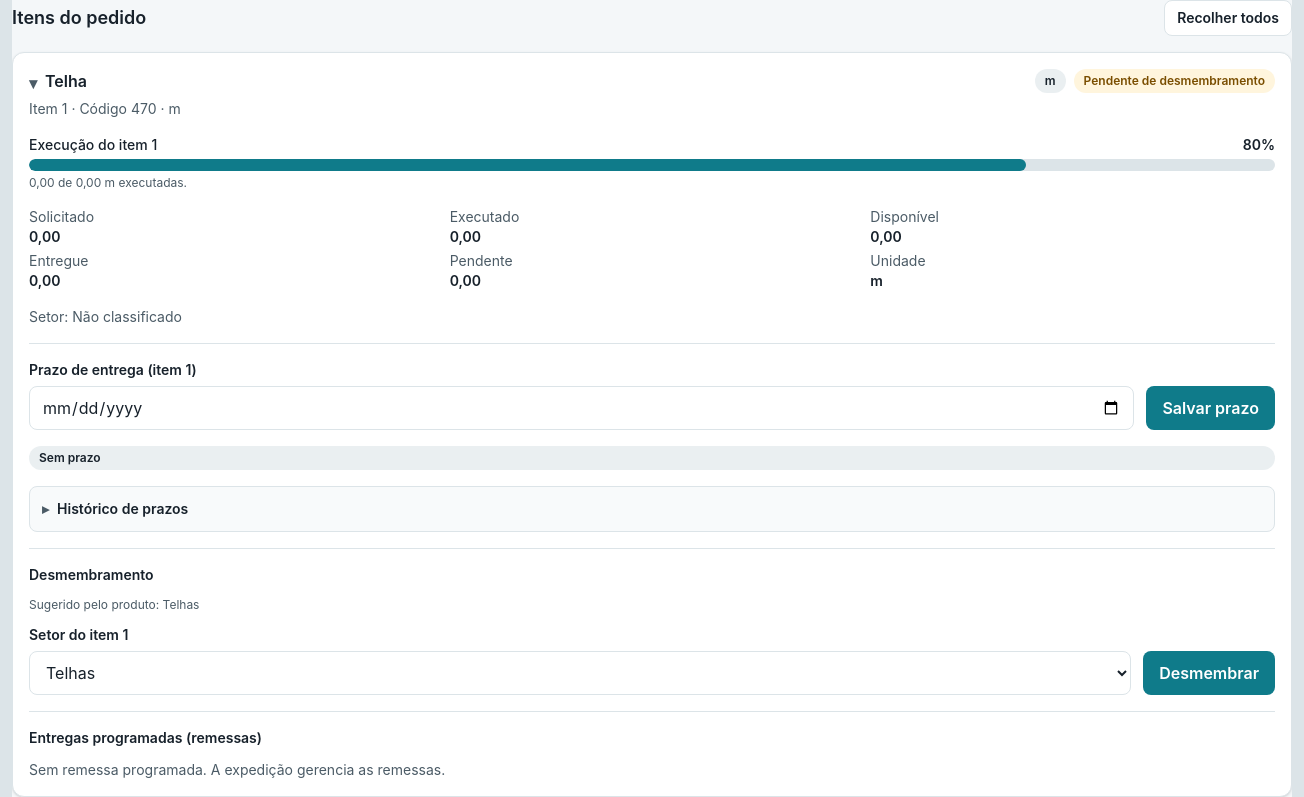
it: PedidoVendedorPage › faz a escolha manual prevalecer sobre o setor sugerido
The image size is (1304, 797).
(page scrolled)
Select "Corte e Dobra" in the dropdown labelled "Setor do item 1": [580, 673] box [29,651,1131,695]
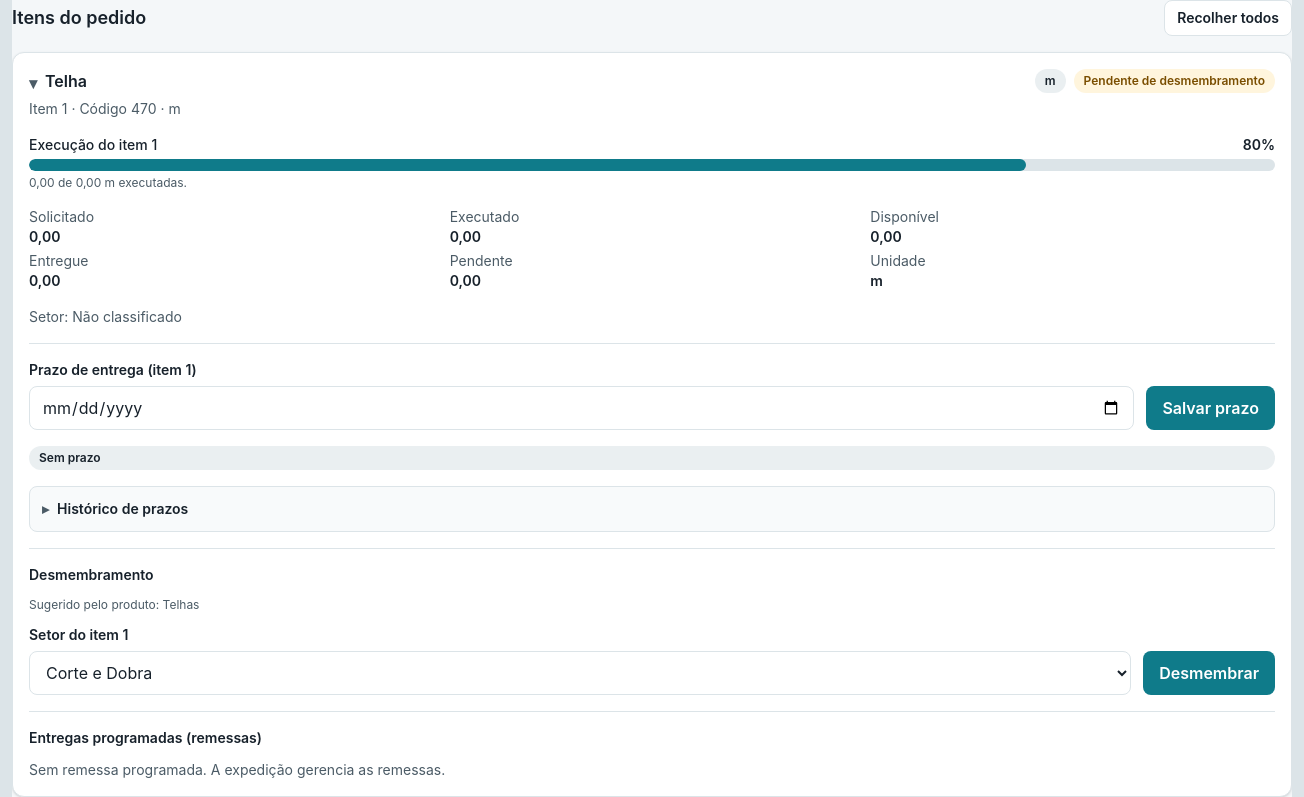
Click the button with aria-label "Classificar item 1": [1209, 673] box [1143,651,1275,695]
(page scrolled)
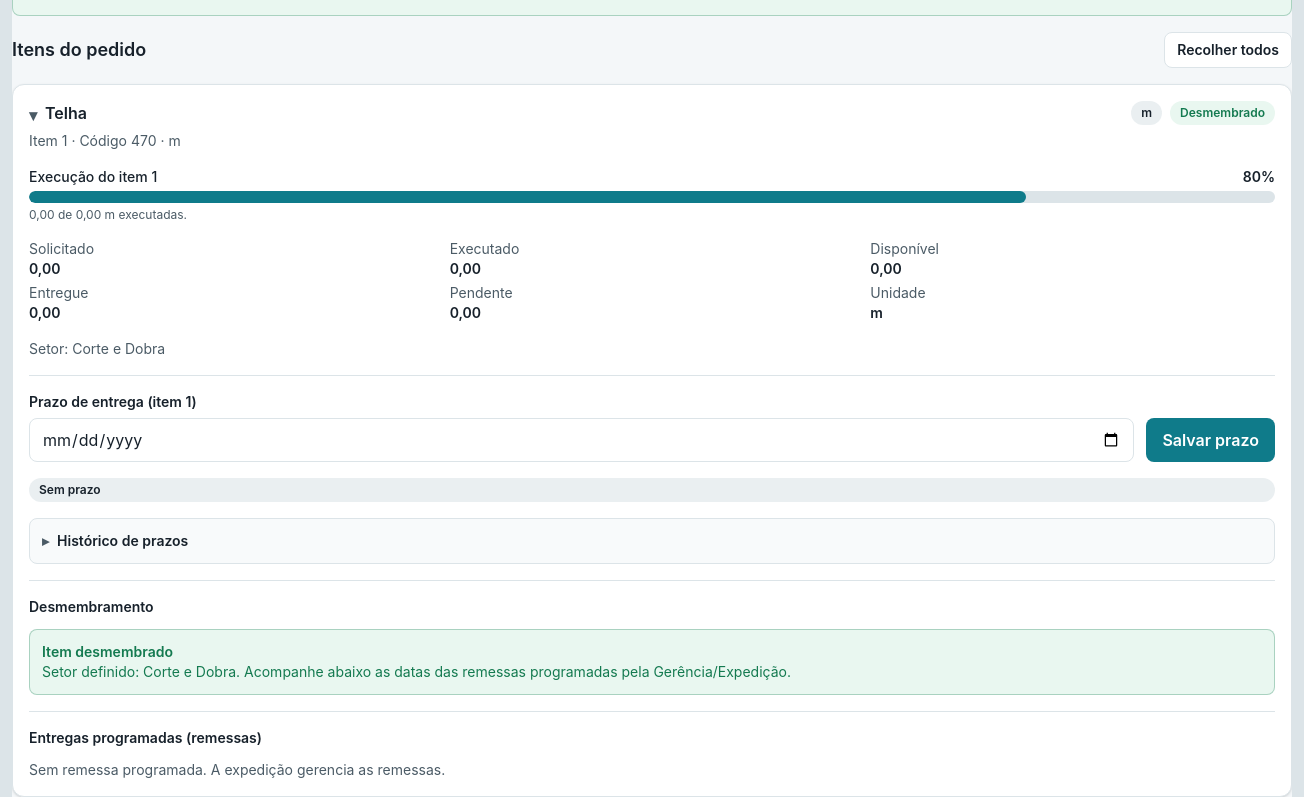
Now the text "Setor definido: Corte e Dobra" is shown, box [42,662,791,682]
